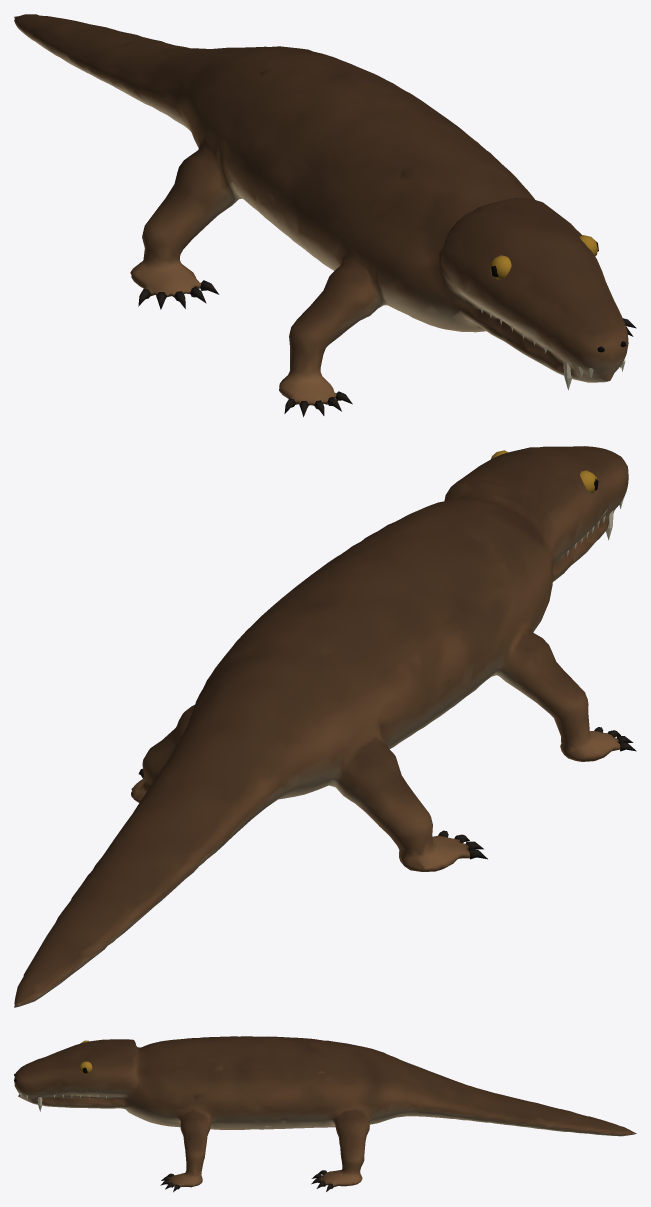
Rendered from Procynosuchus.fbx.
3 renders of one model, top to bottom at view 1: azimuth 30°, elevation 25°; view 2: azimuth 150°, elevation 25°; view 3: azimuth 270°, elevation 25°, orthographic. The views are drawn at different scales.
Parts seen in each view (by area): view 1: Procynosuchus; view 2: Procynosuchus; view 3: Procynosuchus.
Part boxes in pixels (bbox=[...]): Procynosuchus: bbox=[14, 14, 636, 416]; Procynosuchus: bbox=[14, 446, 636, 1007]; Procynosuchus: bbox=[14, 1036, 636, 1192].
Size of the model in its own units: 0.5244 by 0.2909 by 1.55.
